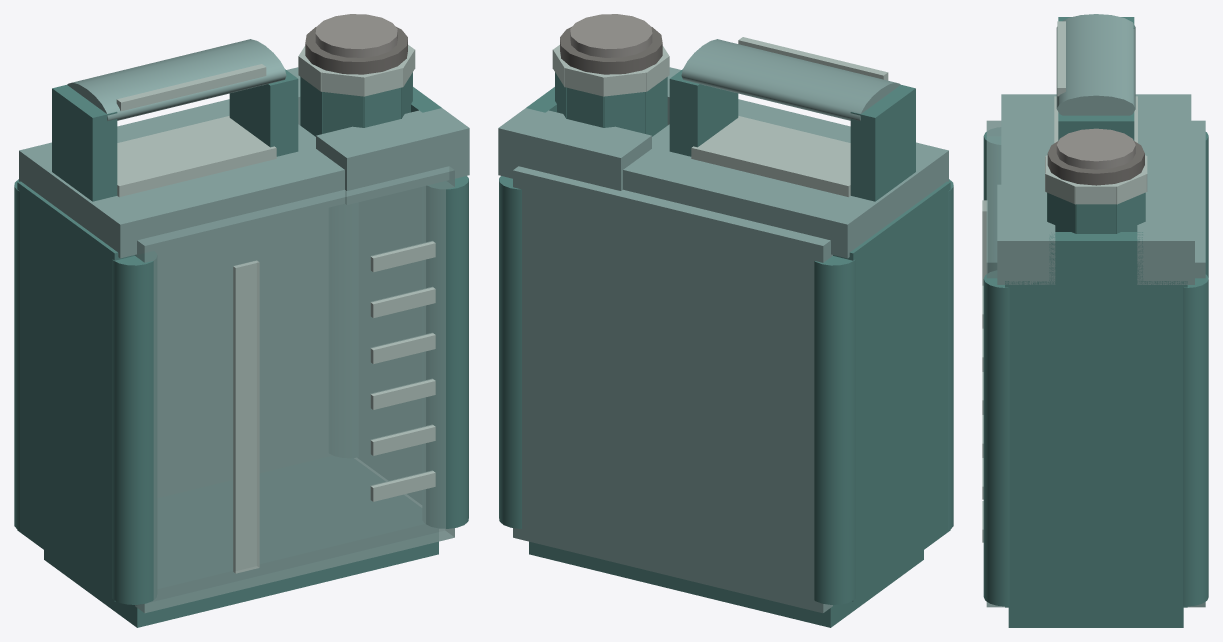
The model's file is CMU3DReagentJugCappedStudyCloud.glb.
The picture shows the model from 3 angles, left to right: view 1: azimuth 30°, elevation 25°; view 2: azimuth 150°, elevation 25°; view 3: azimuth 270°, elevation 25°; orthographic projection. The views are drawn at different scales.
Parts seen in each view (by area): view 1: front translucent jug wall, left molded jug wall, rounded canister corner (×3), jug shoulder left deck, jug shoulder front around spout, front vertical molding, handle inner lower ledge, handle rounded bridge, handle left upright, closed molded jug floor, handle right upright, spout lid crown (+13 smaller); view 2: back molded jug wall, left molded jug wall, rounded canister corner (×3), jug shoulder left deck, handle rounded bridge, jug shoulder rear around spout, handle inner lower ledge, handle left upright, closed molded jug floor, handle right upright, spout lid crown, small grey removable spout lid (+6 smaller); view 3: right molded jug wall, rounded canister corner (×4), jug shoulder left deck, handle rounded bridge, jug shoulder front around spout, jug shoulder rear around spout, jug shoulder right around spout, closed molded jug floor, spout lid crown, front translucent jug wall, back molded jug wall, small grey removable spout lid (+10 smaller).
Part boxes in pixels (x1,y1,x2,y2): front translucent jug wall: (135, 166, 454, 613); left molded jug wall: (17, 181, 135, 601); rounded canister corner (×3): (14, 176, 468, 604); jug shoulder left deck: (19, 99, 344, 258); jug shoulder front around spout: (316, 108, 469, 204); front vertical molding: (233, 260, 259, 573); handle inner lower ledge: (117, 116, 276, 197); handle rounded bridge: (67, 39, 286, 120); handle left upright: (52, 85, 117, 201); closed molded jug floor: (44, 541, 438, 627); handle right upright: (229, 69, 298, 156); spout lid crown: (315, 14, 397, 57); back molded jug wall: (513, 166, 832, 613); left molded jug wall: (833, 181, 950, 601); rounded canister corner (×3): (499, 176, 953, 604); jug shoulder left deck: (623, 99, 948, 258); handle rounded bridge: (681, 39, 900, 120); jug shoulder rear around spout: (498, 108, 651, 190); handle inner lower ledge: (691, 116, 850, 197); handle left upright: (850, 85, 915, 201); closed molded jug floor: (529, 541, 923, 627); handle right upright: (669, 69, 738, 156); spout lid crown: (570, 14, 652, 57); small grey removable spout lid: (560, 26, 662, 74); right molded jug wall: (1005, 281, 1187, 607); rounded canister corner (×4): (983, 132, 1208, 606); jug shoulder left deck: (1001, 94, 1191, 184); handle rounded bridge: (1056, 14, 1135, 115); jug shoulder front around spout: (997, 184, 1055, 284); jug shoulder rear around spout: (1137, 184, 1194, 284); jug shoulder right around spout: (1049, 232, 1143, 284); closed molded jug floor: (1008, 607, 1183, 627); spout lid crown: (1056, 128, 1135, 169); front translucent jug wall: (986, 120, 1004, 607); back molded jug wall: (1187, 120, 1205, 607); small grey removable spout lid: (1047, 141, 1144, 185).
Size of the model in its own units: 0.502 by 0.688 by 0.298.
